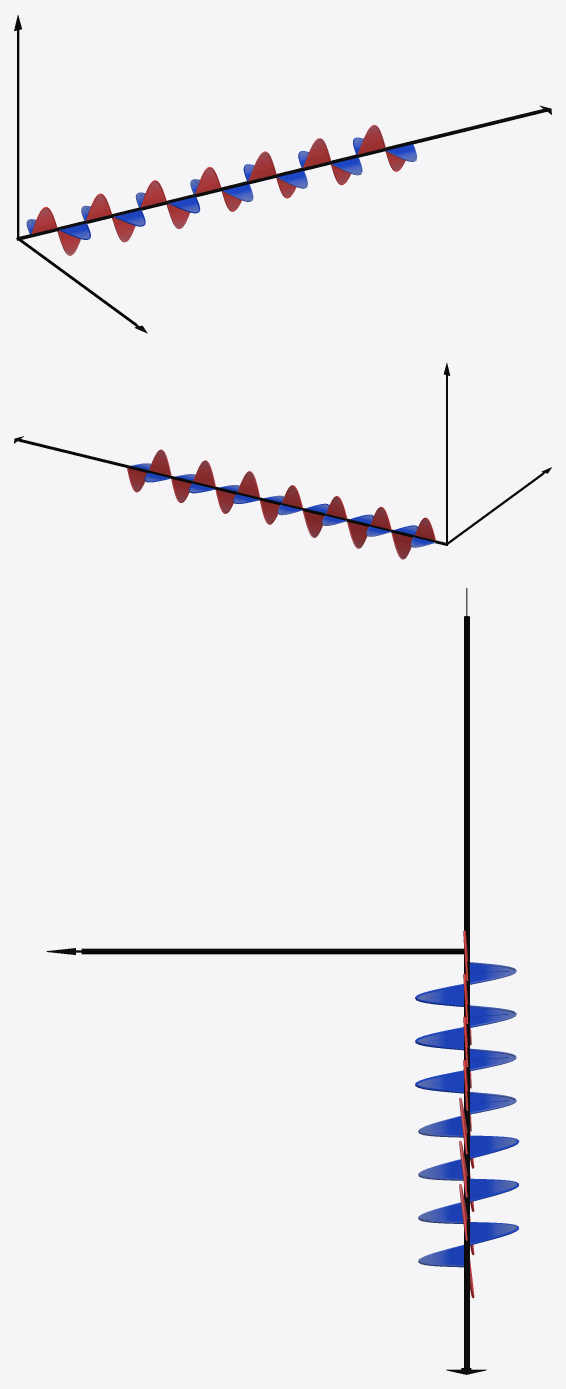
File: em-waves-01.glb
3 renders of one model, top to bottom at view 1: azimuth 30°, elevation 25°; view 2: azimuth 150°, elevation 25°; view 3: azimuth 270°, elevation 25°, orthographic. The views are drawn at different scales.
Visible parts, largest first — view 1: Helix.001, Helix.002, Cylinder.001; view 2: Helix.002, Helix.001, Cylinder.001; view 3: Cylinder.001, Helix.002, Helix.001.
Part boxes in pixels (x1,y1,x2,y2): Helix.001: (221, 124, 416, 211); Helix.002: (26, 167, 221, 255); Cylinder.001: (14, 15, 551, 333); Helix.002: (277, 485, 435, 559); Helix.001: (127, 449, 283, 524); Cylinder.001: (14, 363, 551, 545); Cylinder.001: (46, 588, 486, 1374); Helix.002: (415, 930, 516, 1131); Helix.001: (418, 1097, 519, 1298).
Bounding box in the file's own units: 1.55 × 0.7032 × 0.7274.
5 materials, 5 textured.
